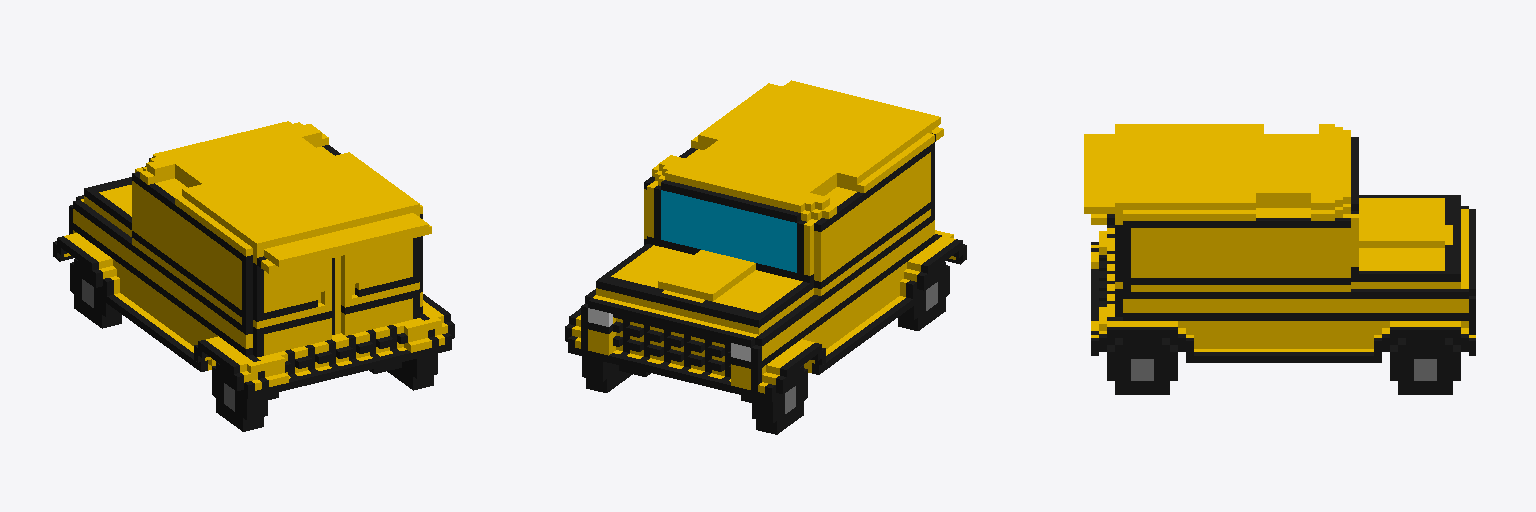
3 renders of one model, left to right at view 1: azimuth 30°, elevation 25°; view 2: azimuth 150°, elevation 25°; view 3: azimuth 270°, elevation 25°, orthographic.
Visible parts, largest first — view 1: object 1; view 2: object 1; view 3: object 1.
Part boxes in pixels (x1,y1,x2,y2): object 1: (53, 121, 454, 431); object 1: (565, 80, 966, 434); object 1: (1084, 124, 1475, 394).
Bounding box in the file's own units: 3.2 × 2.6 × 5.
Materials: 1 (1 with a texture image).